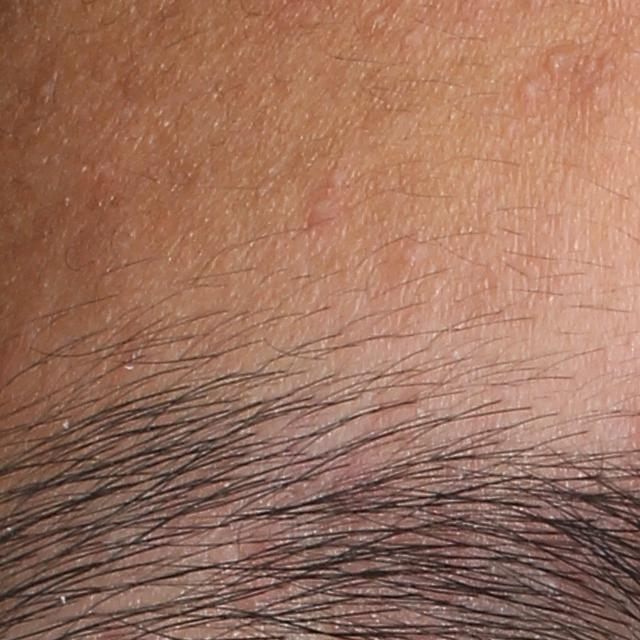comedo: (516, 74, 549, 110), (539, 50, 572, 77), (582, 79, 614, 106), (31, 71, 58, 102), (398, 242, 430, 267), (362, 8, 385, 33)
